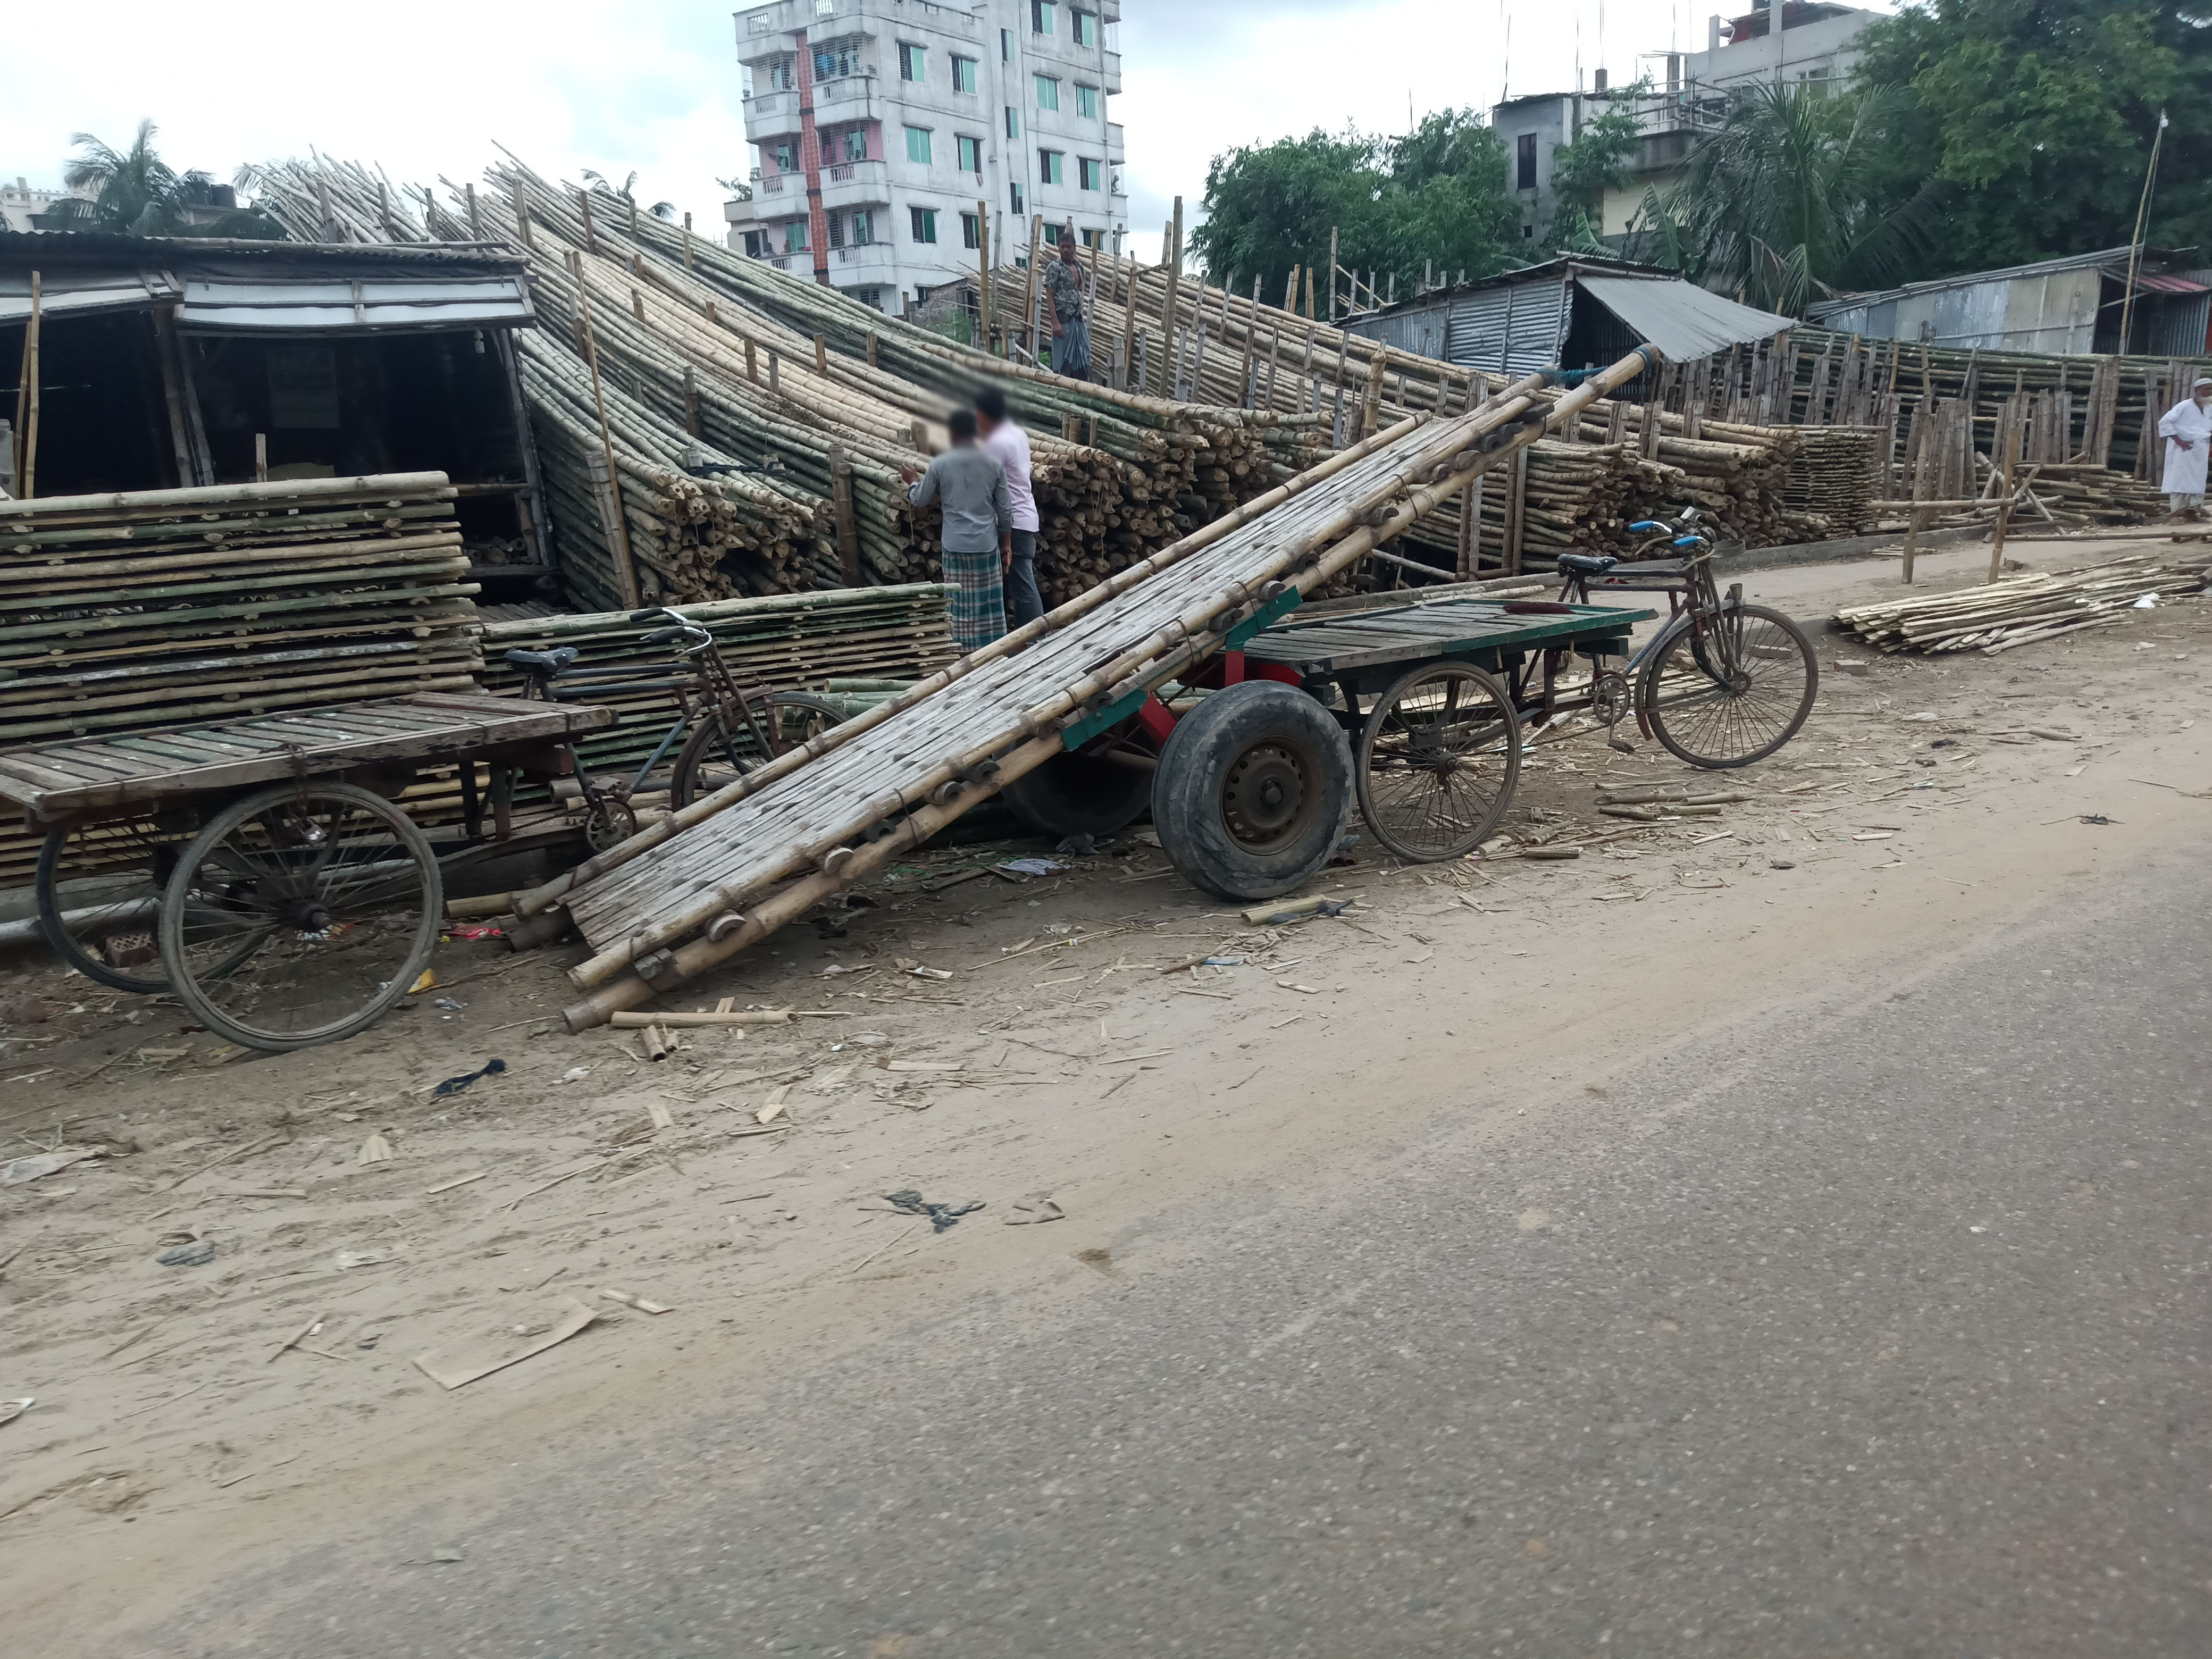van: (5, 641, 843, 1075), (1261, 504, 1822, 847)
wheelbarrow: (564, 265, 1639, 1108)
